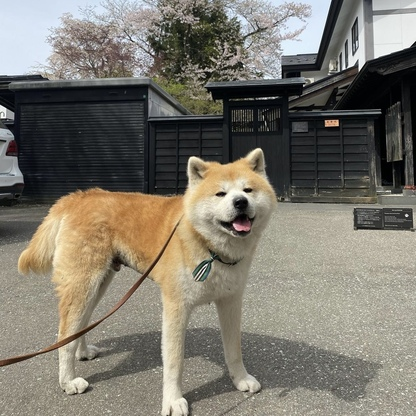akita: (13, 144, 284, 416)
